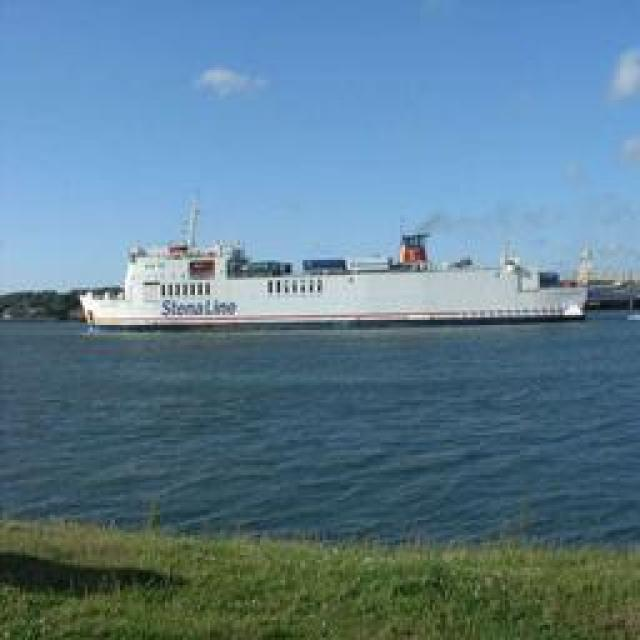ship2: (81, 228, 593, 330)
